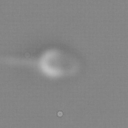normal: (1, 50, 40, 75)
